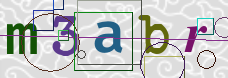3: (51, 13, 80, 57)
a: (93, 19, 124, 55)
b: (137, 12, 172, 55)
m: (4, 21, 38, 57)
r: (182, 23, 210, 54)
